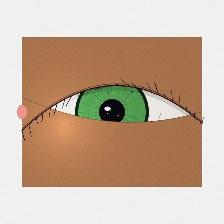pinguecula_lesion: (47, 102, 82, 130)
